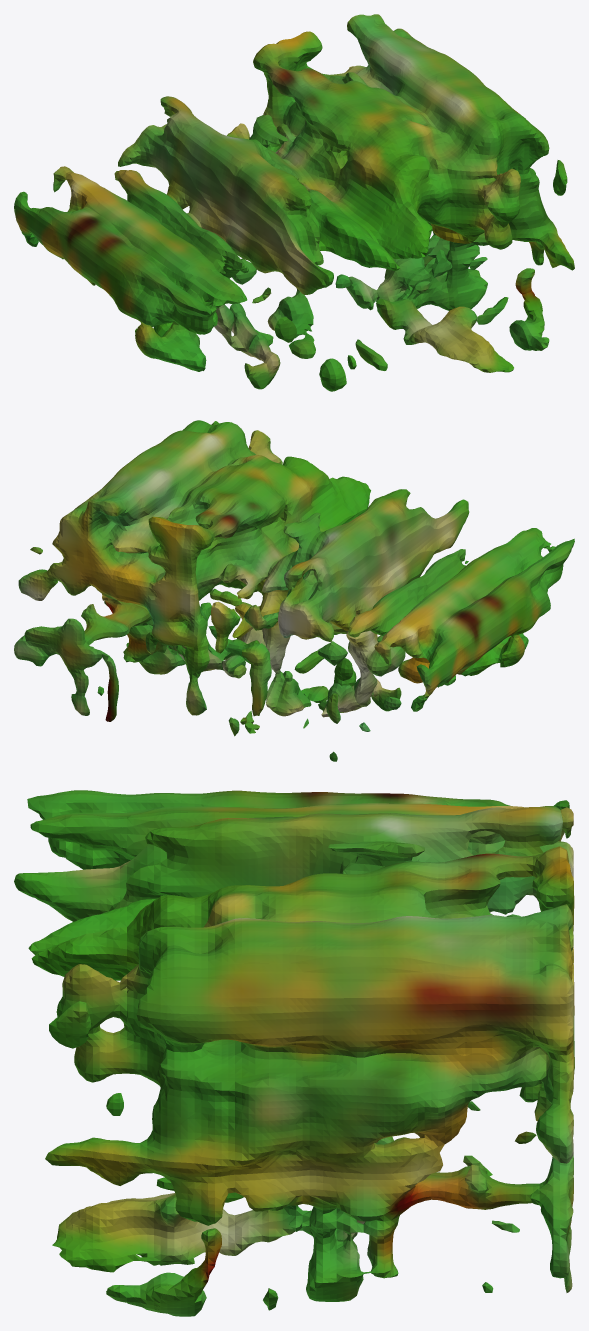
File: a_green_chair.0.glb
3 renders of one model, top to bottom at view 1: azimuth 30°, elevation 25°; view 2: azimuth 150°, elevation 25°; view 3: azimuth 270°, elevation 25°, orthographic. The views are drawn at different scales.
Parts seen in each view (by area): view 1: a_green_chair.0.obj; view 2: a_green_chair.0.obj; view 3: a_green_chair.0.obj.
Part boxes in pixels (left/top/right/bottom): a_green_chair.0.obj: left=14, top=14, right=574, bottom=391; a_green_chair.0.obj: left=14, top=420, right=574, bottom=761; a_green_chair.0.obj: left=14, top=790, right=574, bottom=1316.
Bounding box in the file's own units: 1.82 × 0.9986 × 1.29.
